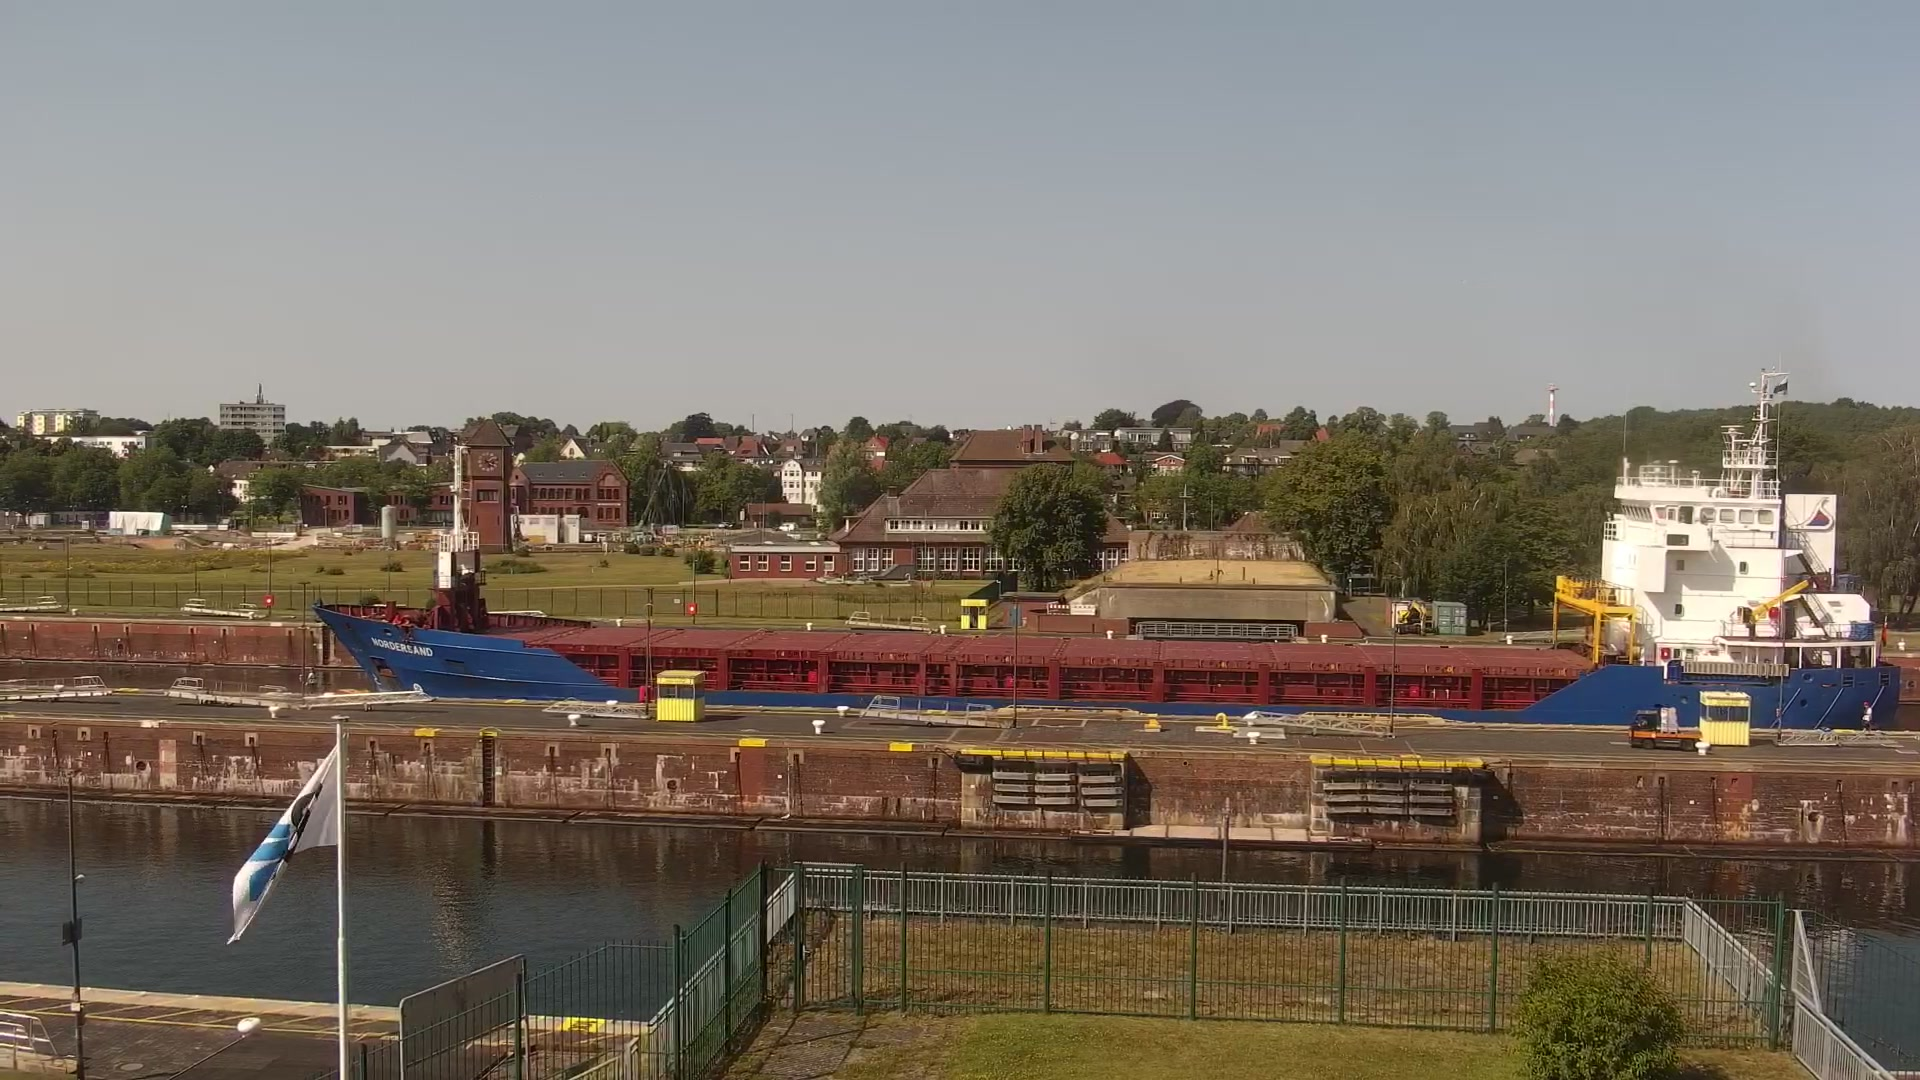human: (1858, 699, 1874, 735)
land: (1629, 704, 1704, 751), (1393, 597, 1426, 634), (776, 521, 798, 531), (595, 532, 607, 542), (718, 520, 733, 527), (610, 531, 622, 541)
sea: (312, 357, 1897, 735)
